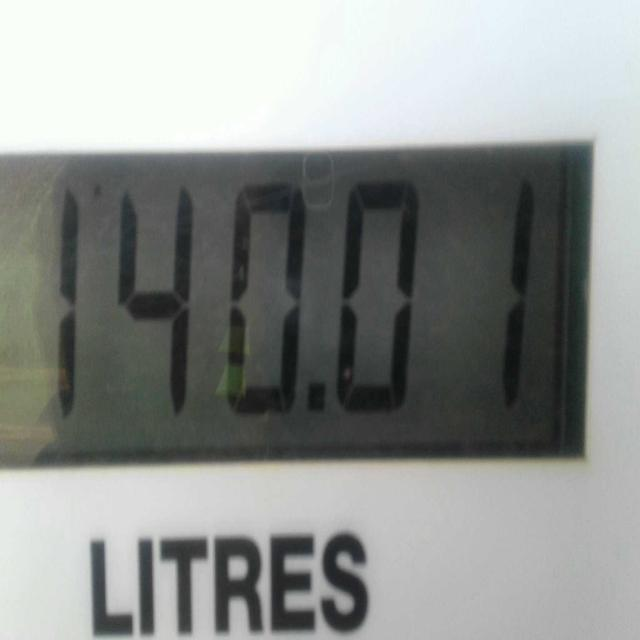.: (297, 357, 337, 426)
0: (333, 173, 427, 415), (228, 171, 307, 422)
1: (489, 162, 557, 422), (48, 170, 98, 438)
4: (110, 180, 200, 426)
